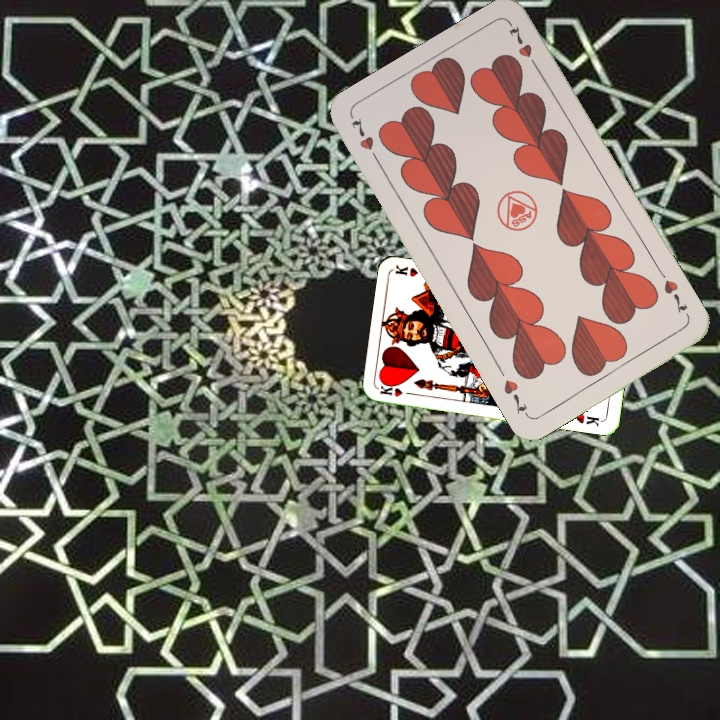H7: (347, 113, 383, 167), (659, 275, 691, 316)
HK: (376, 380, 417, 399)
